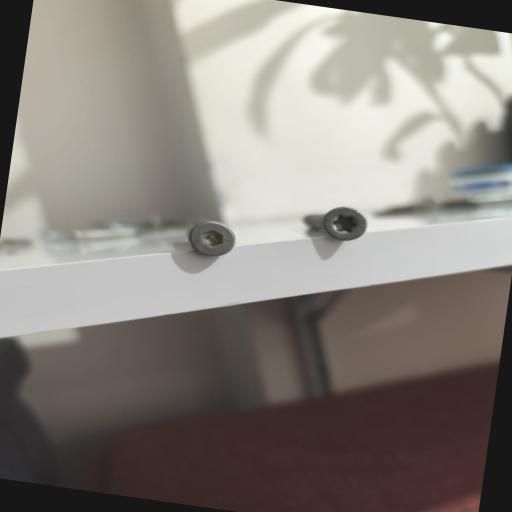Hex-Allen: (186, 216, 238, 262)
Torx: (320, 199, 370, 244)
